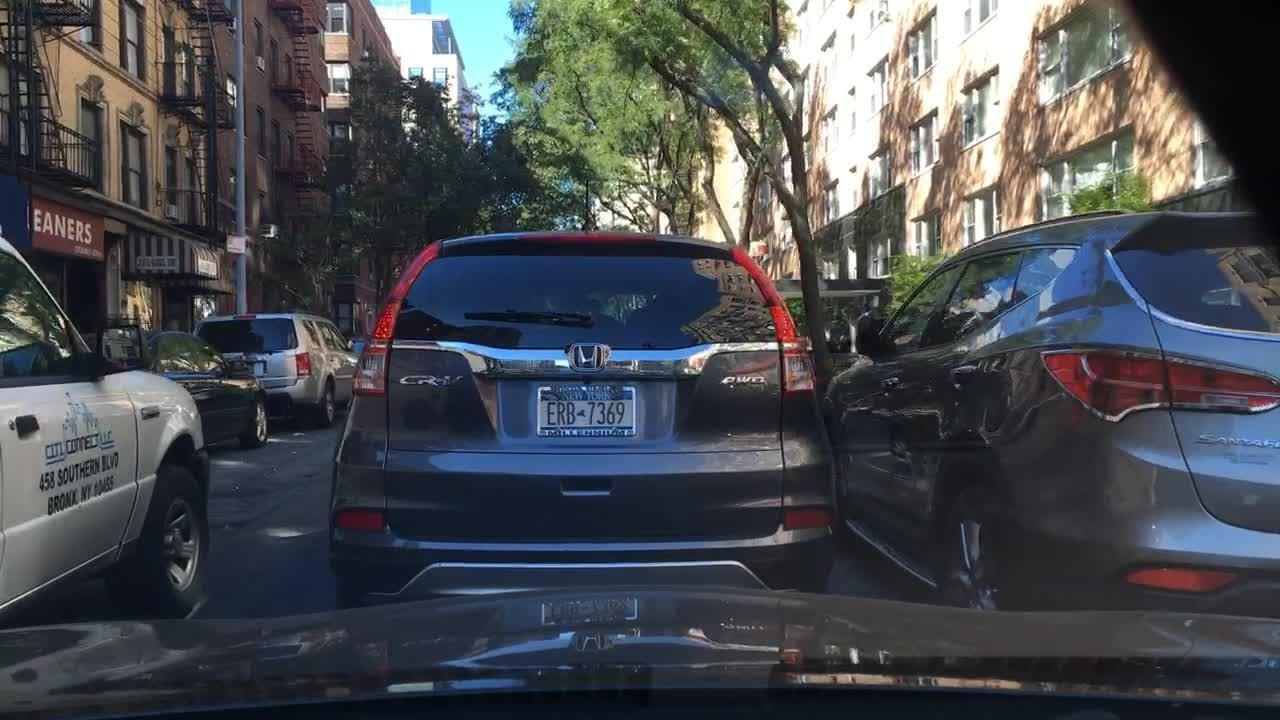Honda: (544, 323, 629, 390)
